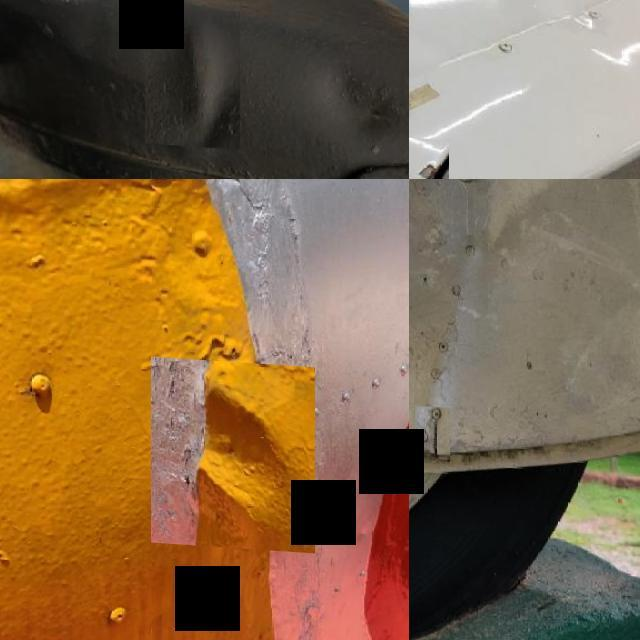Crack: (415, 402, 450, 458), (409, 131, 449, 179)
Dent: (151, 353, 315, 548), (145, 3, 240, 146), (311, 43, 409, 157)
